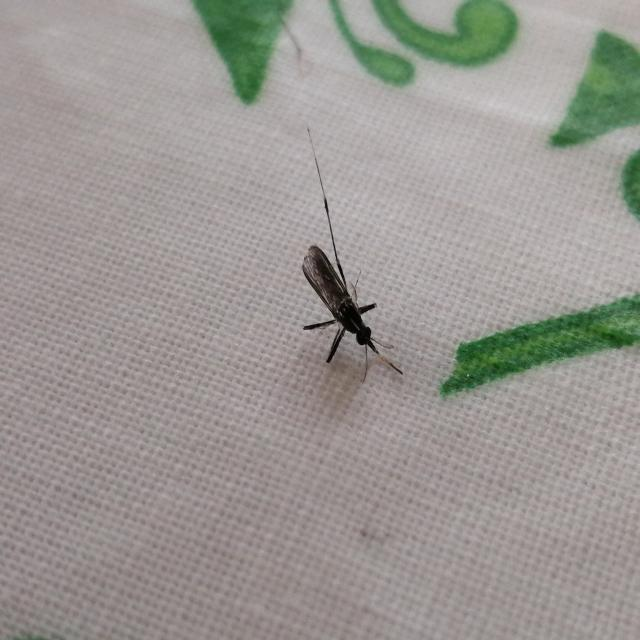albopictus: (279, 123, 406, 384)
